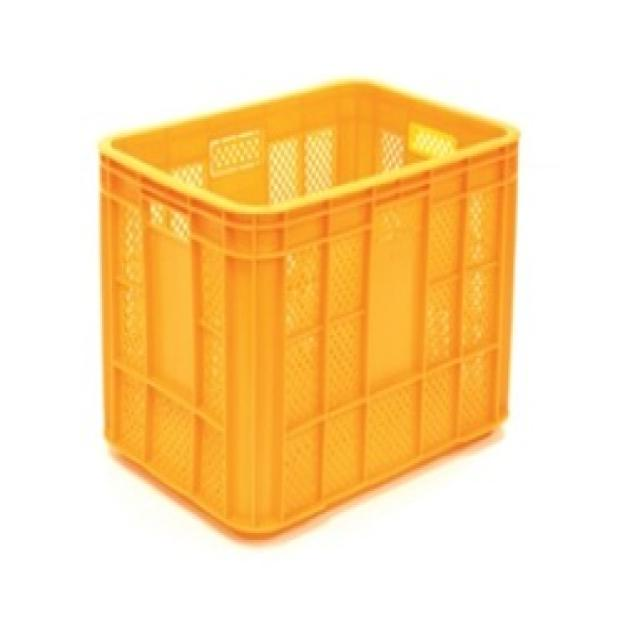basket: (100, 81, 520, 534)
